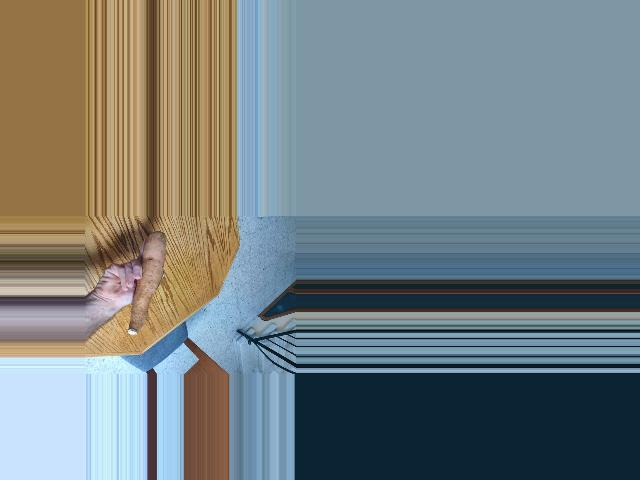sweet_potato: (123, 234, 169, 336)
